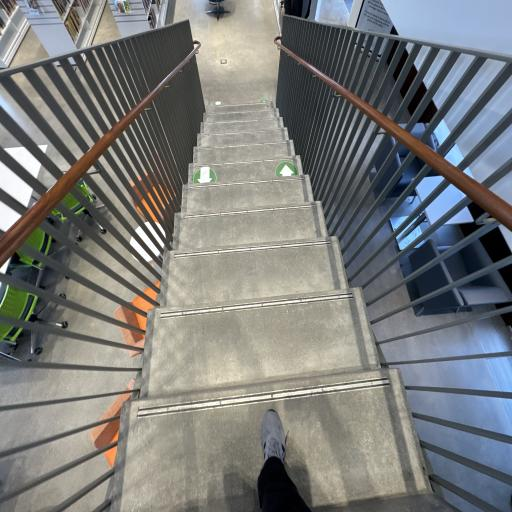Stairs: (112, 103, 452, 512)
